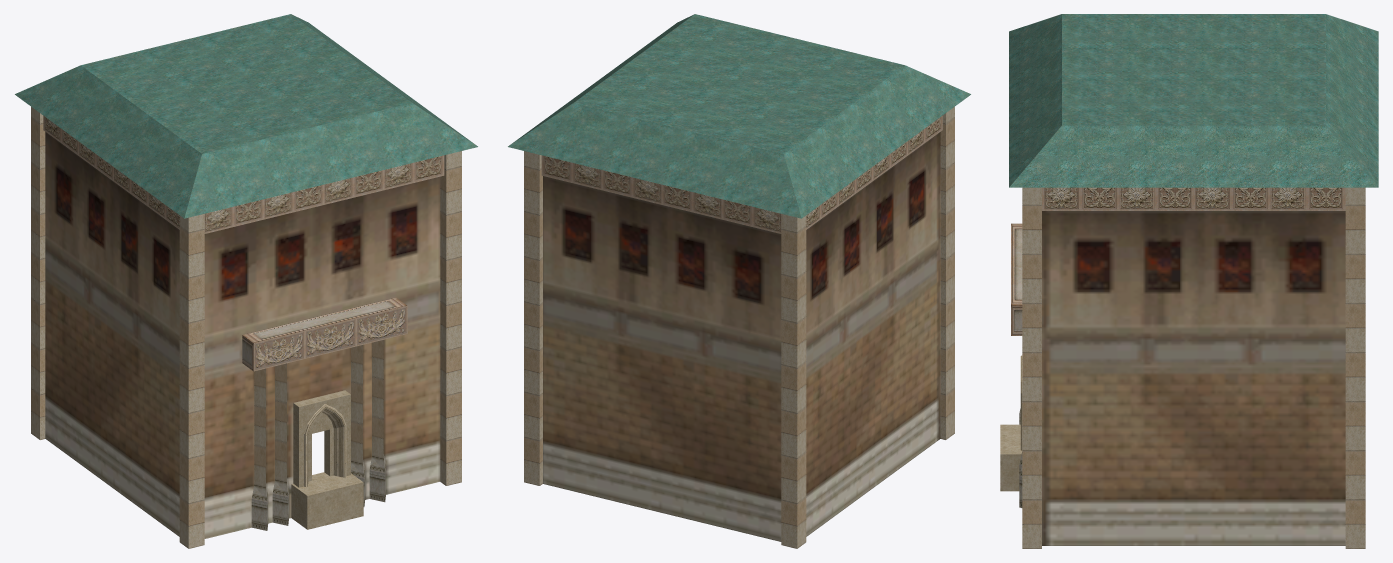
The model's file is thm_nboo_thed_imprv_building_s04_r0_mesh_l2.fbx.
3 renders of one model, left to right at view 1: azimuth 30°, elevation 25°; view 2: azimuth 150°, elevation 25°; view 3: azimuth 270°, elevation 25°, orthographic. The views are drawn at different scales.
Parts seen in each view (by area): view 1: mesh_node; view 2: mesh_node; view 3: mesh_node.
Part boxes in pixels (<box>): mesh_node: <box>15,14,477,548</box>; mesh_node: <box>508,14,970,548</box>; mesh_node: <box>1000,14,1378,548</box>.
Size of the model in its own units: 21 by 25.5 by 21.5.
